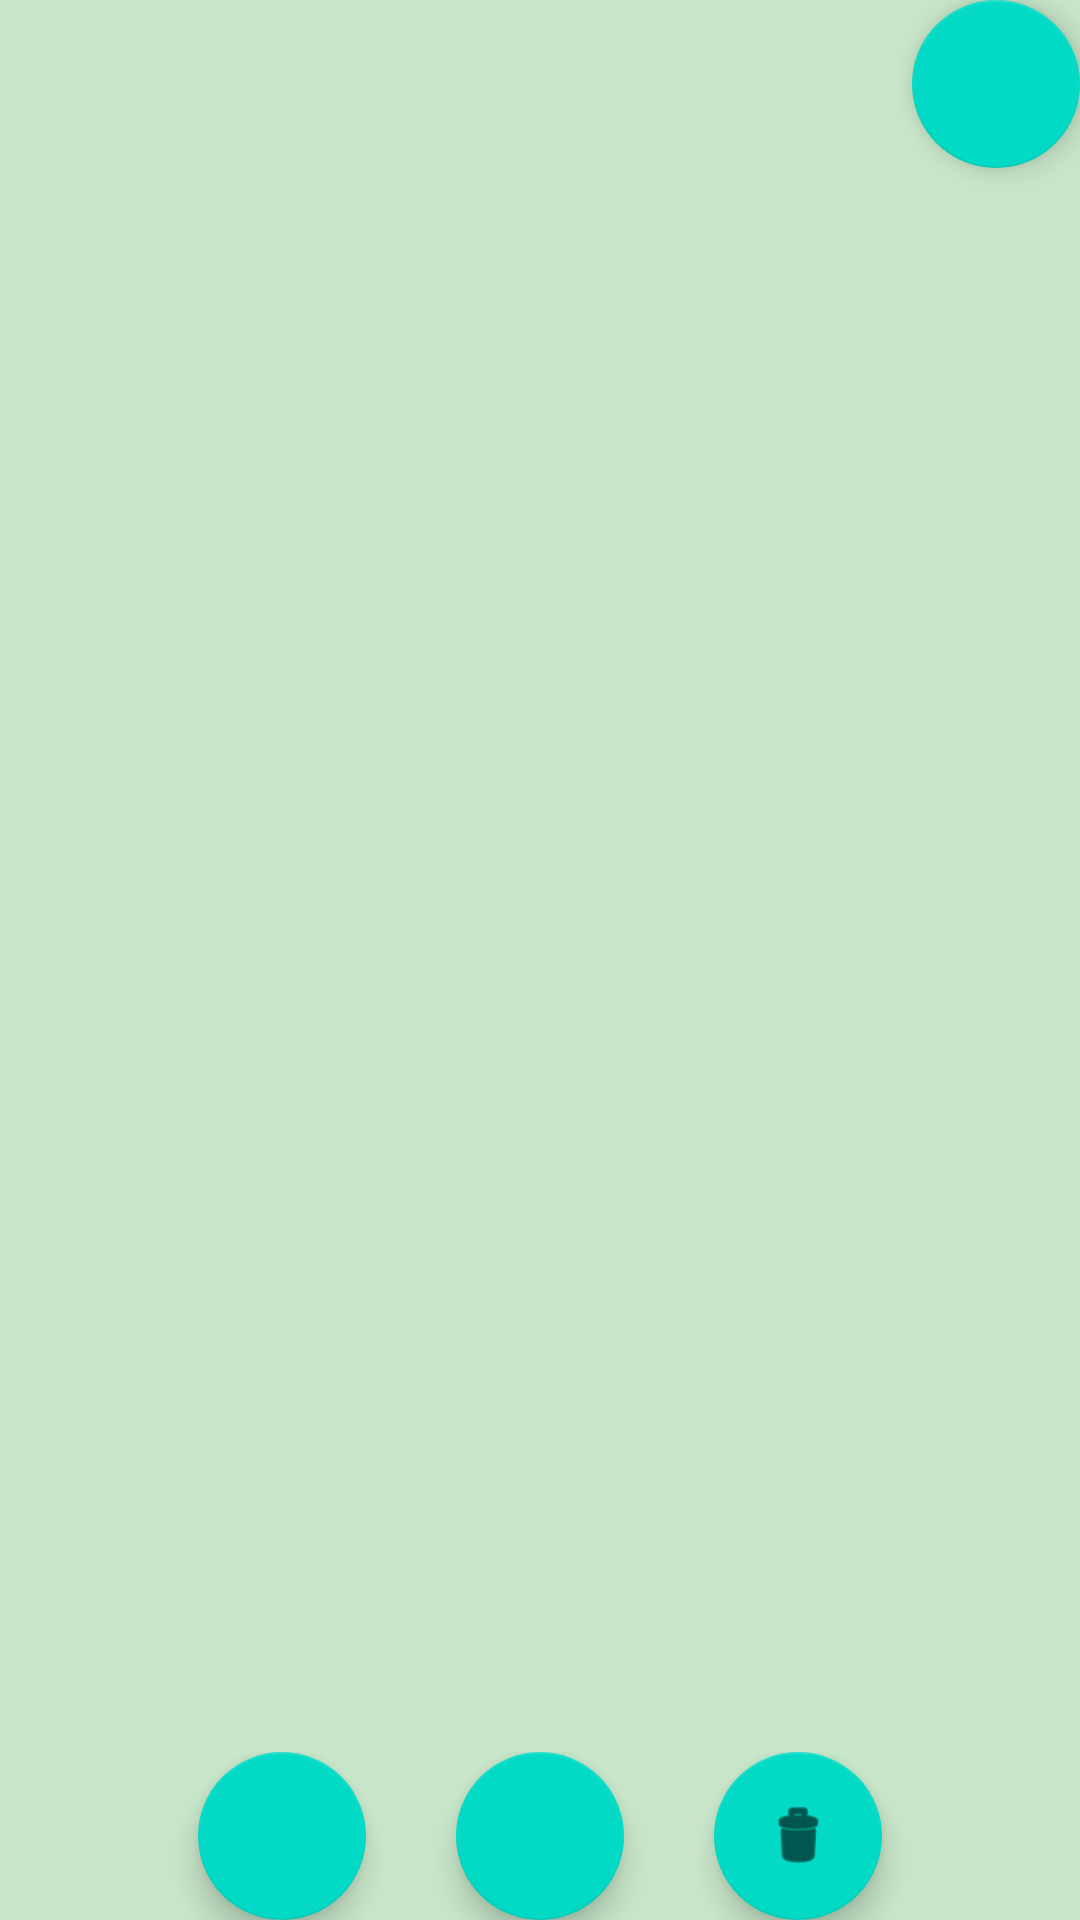

Icon click points for this 1080*1920 phone screenshot, format [x,y]:
delete: [798,1836]
